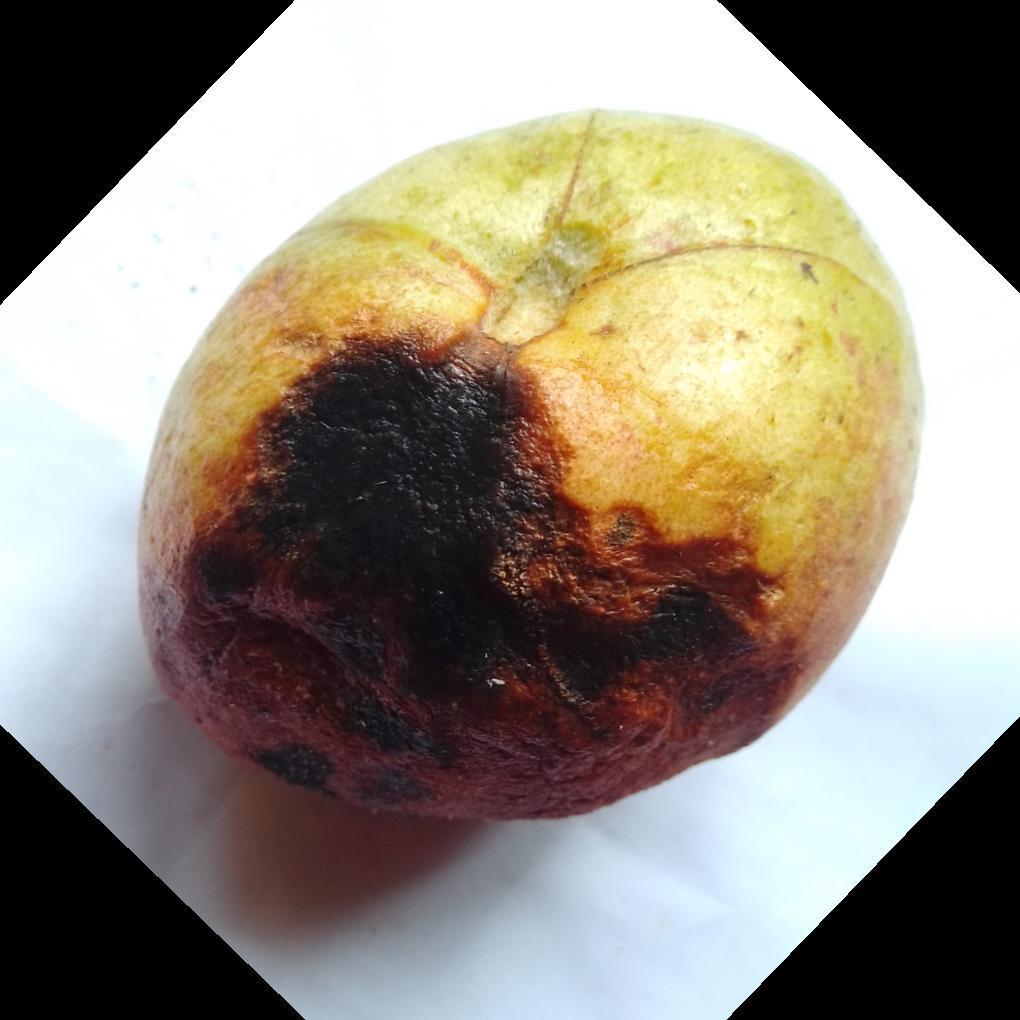FreshOrange: (133, 106, 926, 827)
